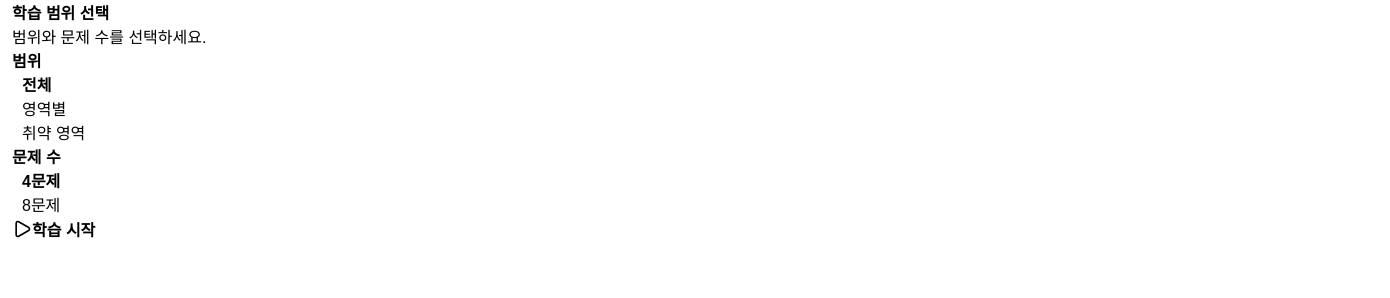
학습 시작 › 범위 선택 + 영역 선택 + 시작 버튼을 렌더링한다
Expected: the heading "학습 범위 선택" is shown, x1=12 y1=5 x2=109 y2=22
Expected: the text "전체" is shown, x1=12 y1=77 x2=52 y2=94
Click the text "영역별": (39, 110) x1=12 y1=101 x2=66 y2=118
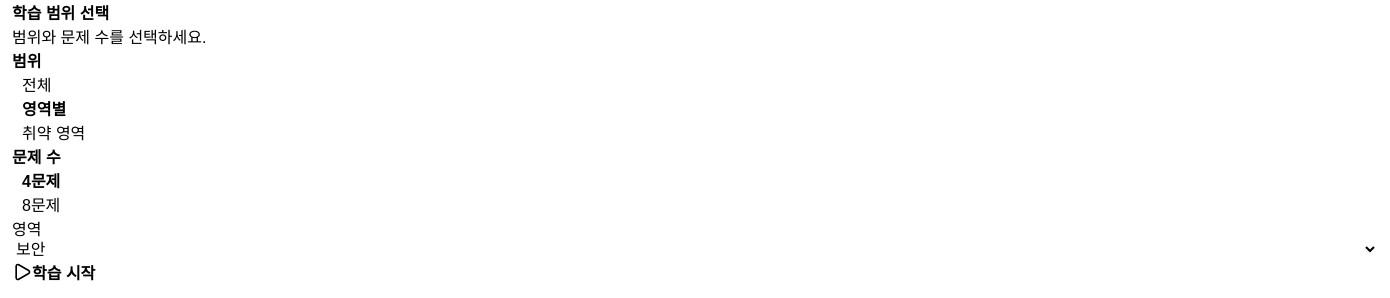
Result: the dropdown labelled "영역" is shown at x1=12 y1=240 x2=1378 y2=259
